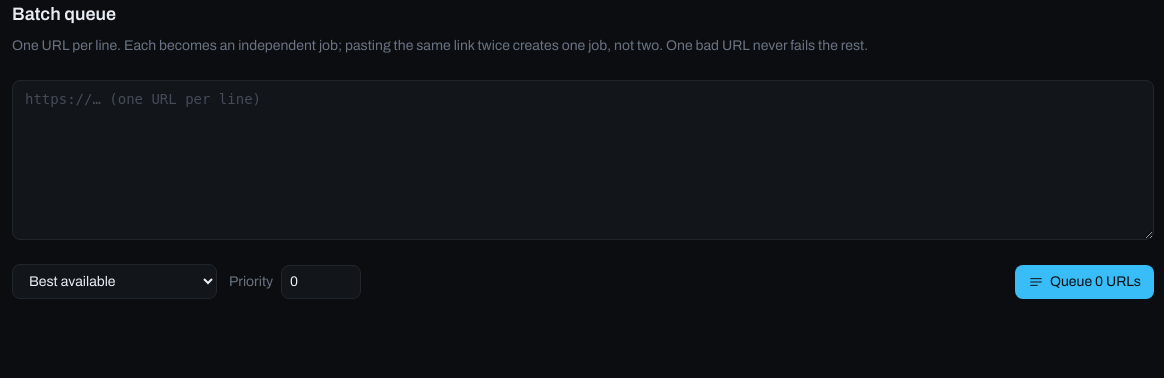
Test: Batch screen › refuses to submit without urls
Click the button "Queue 0 URLs" at {"x": 1084, "y": 282}, box [1015,264,1154,298]
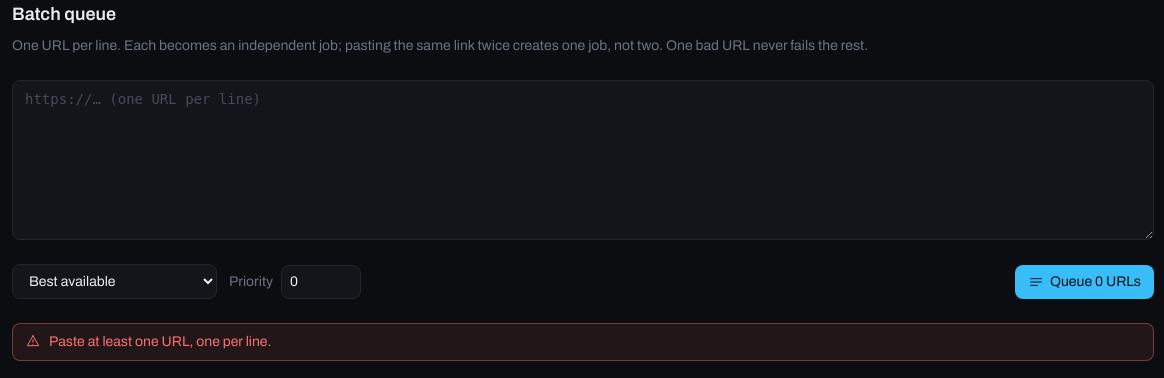
Now the text "Paste at least one URL, one per line." is shown, box [49,334,271,349]
